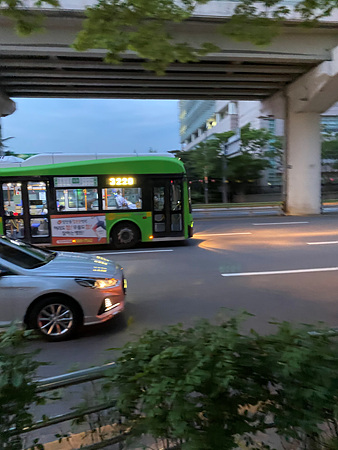entrance: (153, 175, 184, 239)
